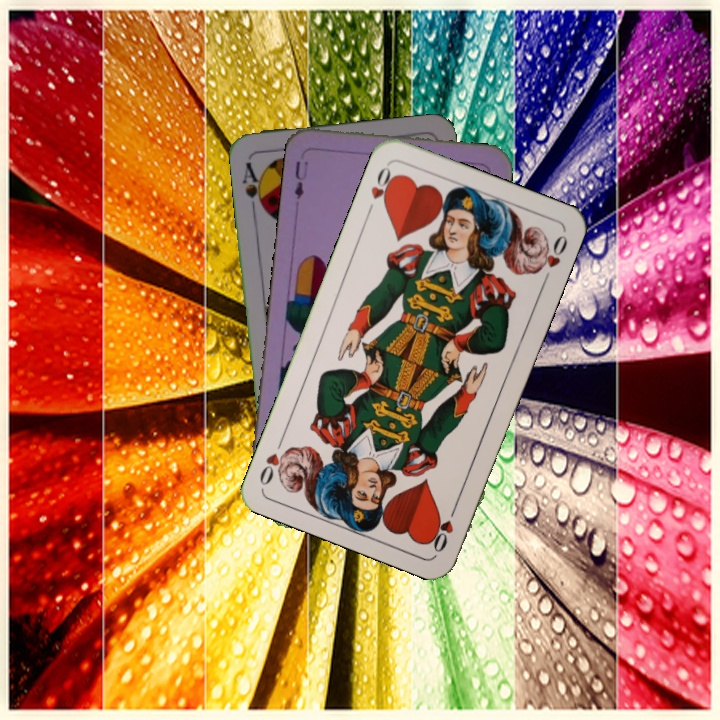EU: (290, 157, 311, 202)
HO: (363, 161, 399, 217), (427, 499, 461, 556)
SA: (238, 158, 268, 215)
